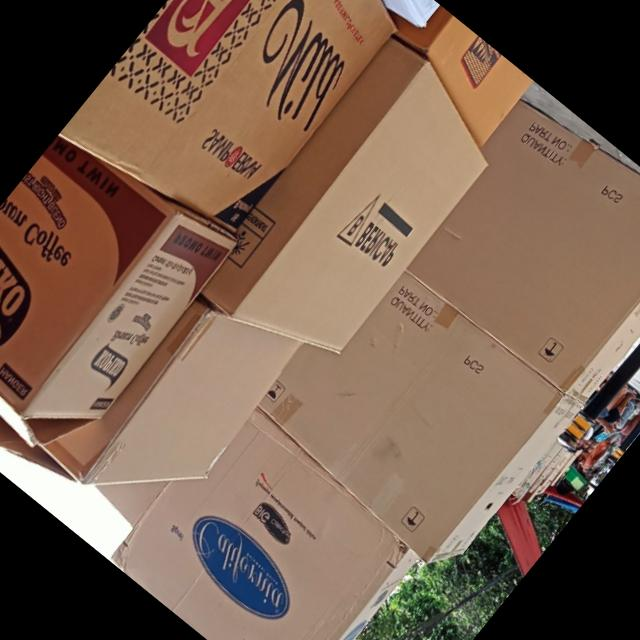Kardus: (0, 0, 640, 640), (243, 68, 640, 576), (162, 11, 520, 388), (56, 0, 424, 262), (0, 109, 244, 459), (104, 393, 429, 640)
